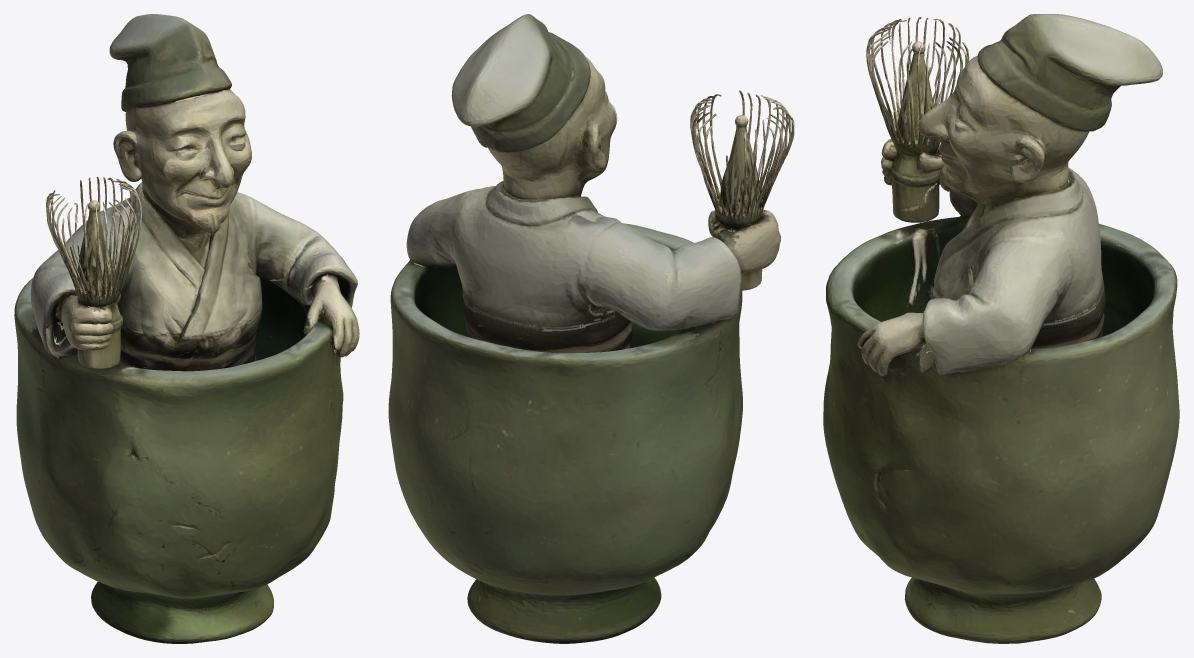
File: tea_master_bowl.glb
3 views of the same model, side by side, from view 1: azimuth 30°, elevation 25°; view 2: azimuth 150°, elevation 25°; view 3: azimuth 270°, elevation 25° (orthographic). The views are drawn at different scales.
Parts seen in each view (by area): view 1: world; view 2: world; view 3: world.
Part boxes in pixels (bbox=[...]): world: bbox=[14, 14, 359, 643]; world: bbox=[388, 14, 794, 643]; world: bbox=[823, 14, 1179, 643].
Bounding box in the file's own units: 1.16 × 1.99 × 1.06.
1 material, 1 textured.
